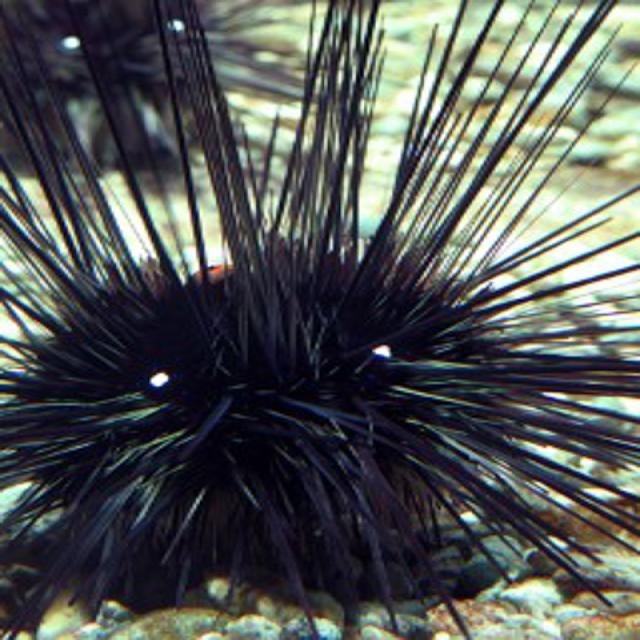Urchin: (1, 7, 640, 606)
